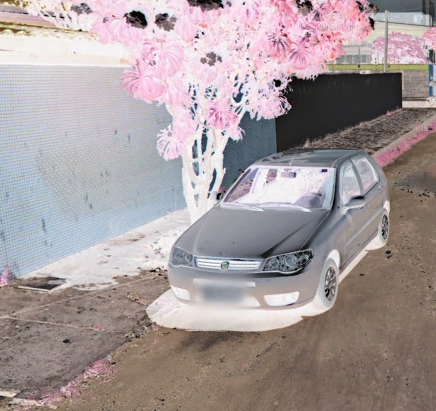car: (165, 146, 392, 316)
